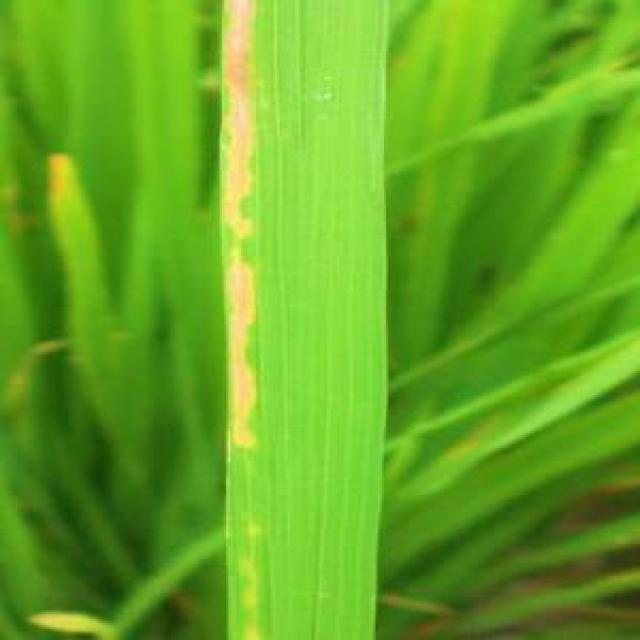leaf blight: (222, 2, 264, 467)
